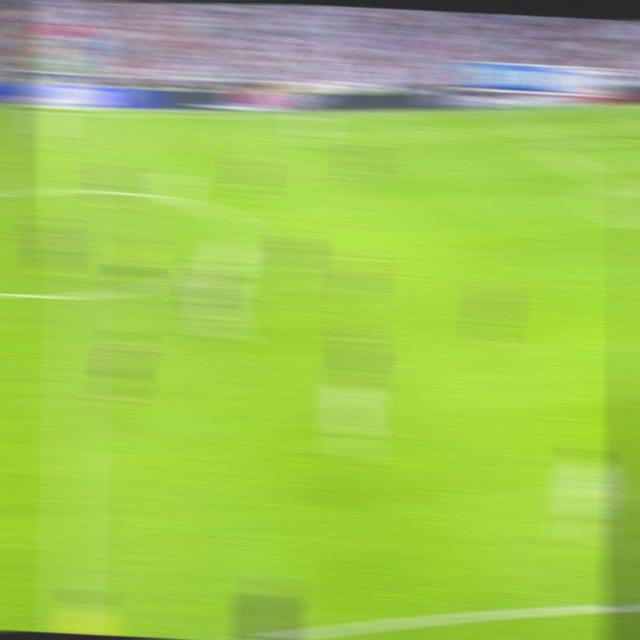bigarea_bottom_outter: (598, 175, 624, 192)
halfcircle_bottom: (62, 280, 92, 308)
halfcircle_top: (64, 179, 92, 200)
midline_top_intersection: (66, 105, 93, 122)
